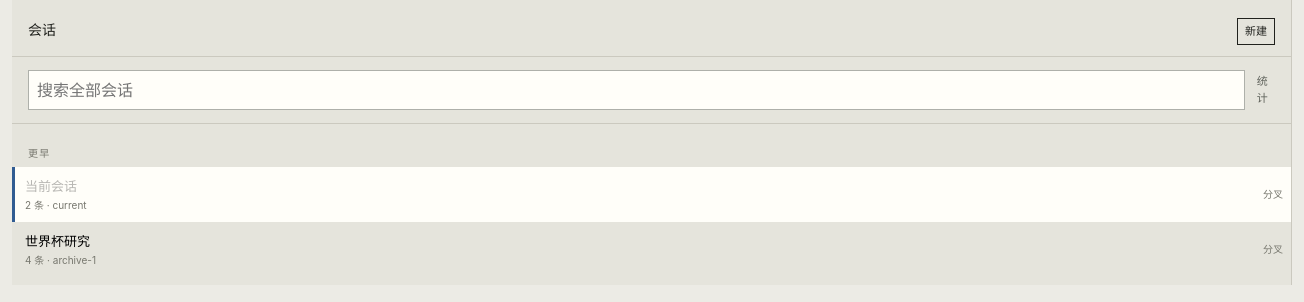
Test case: SessionPanel workbench › searches sessions and exposes matching content
This screenshot has width=1304, height=302.
Type "世界杯" into the search field named "搜索会话" at (636, 90), box [28,70,1244,110]
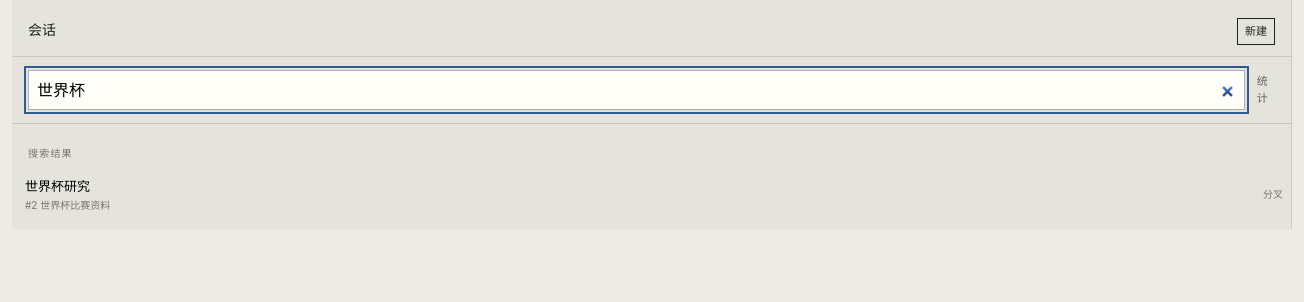
Now the text "#2 世界杯比赛资料" is shown, box [25,198,110,213]
Now the button "当前会话" is gone
